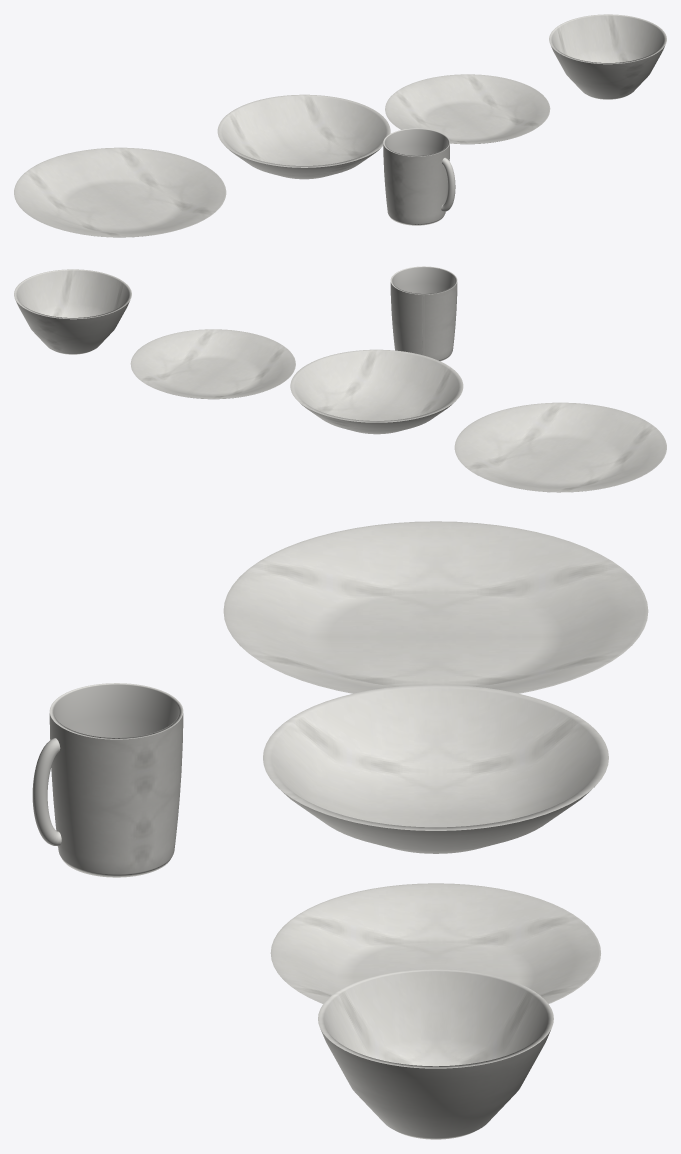
File: MAR-20.glb
3 renders of one model, top to bottom at view 1: azimuth 30°, elevation 25°; view 2: azimuth 150°, elevation 25°; view 3: azimuth 270°, elevation 25°, orthographic. The views are drawn at different scales.
Bounding box in the file's own units: 0.926 × 0.1 × 0.3913.
11 materials, 9 textured.
